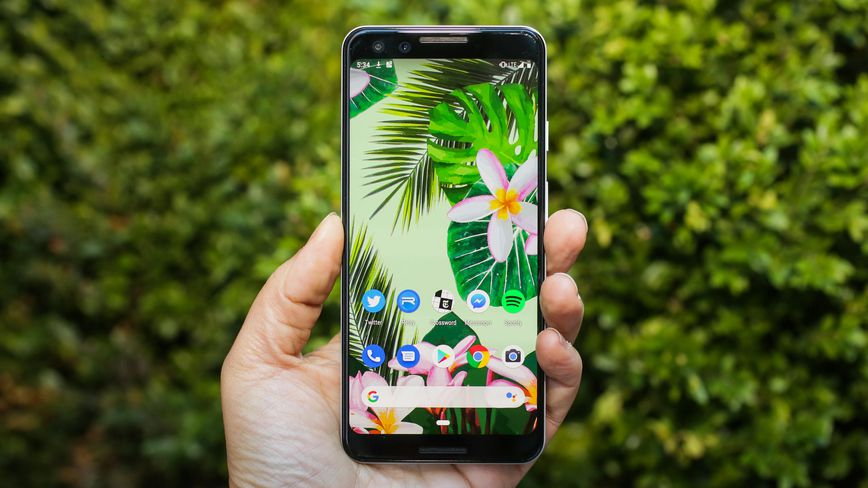phone: (337, 18, 551, 468)
